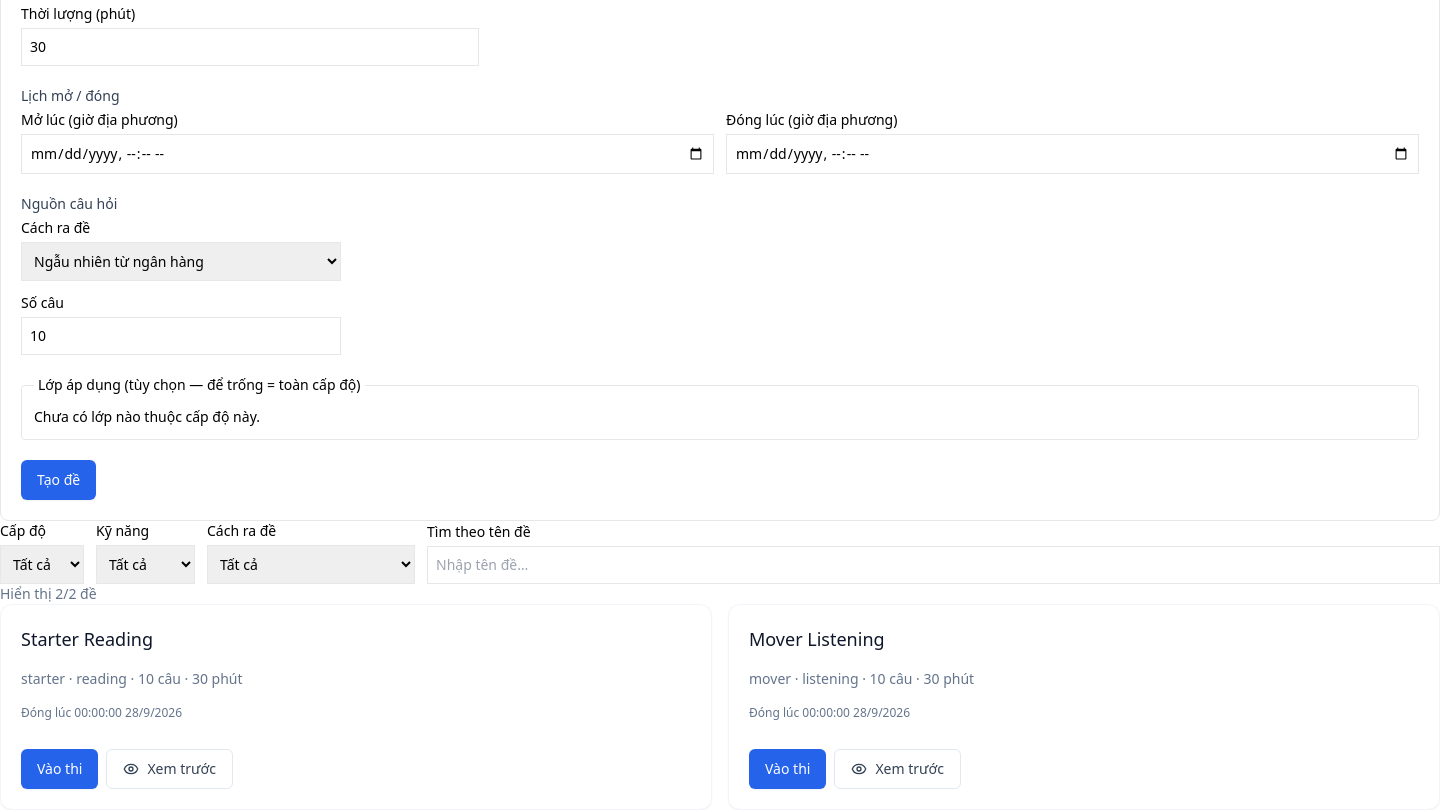
ExamsPage — slice-20 filter & preview › xem truoc de fixed_set hien metadata + bo de lien ket, khong lo nut vao thi
(page scrolled)
expect the heading "Mover Listening" is shown: met, box [749,627,885,651]
Click the button with aria-label "Xem trước đề Mover Listening" at (898, 769), box [834,749,961,789]
(page scrolled)
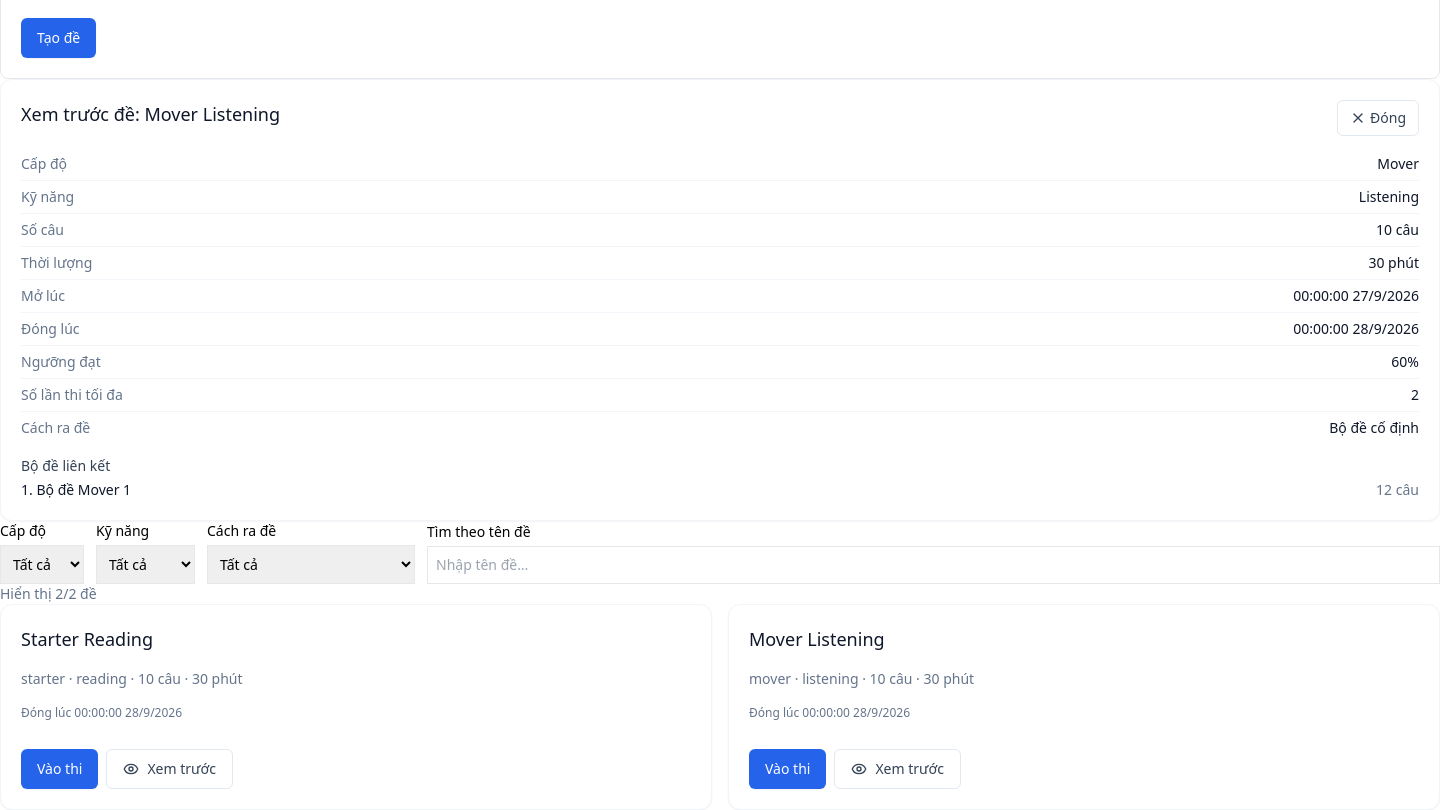
expect the text "Bộ đề cố định" is shown: met, box [1329,418,1419,438]
expect the text "1. Bộ đề Mover 1" is shown: met, box [21,480,131,500]
expect the text "12 câu" is shown: met, box [1376,480,1419,500]
